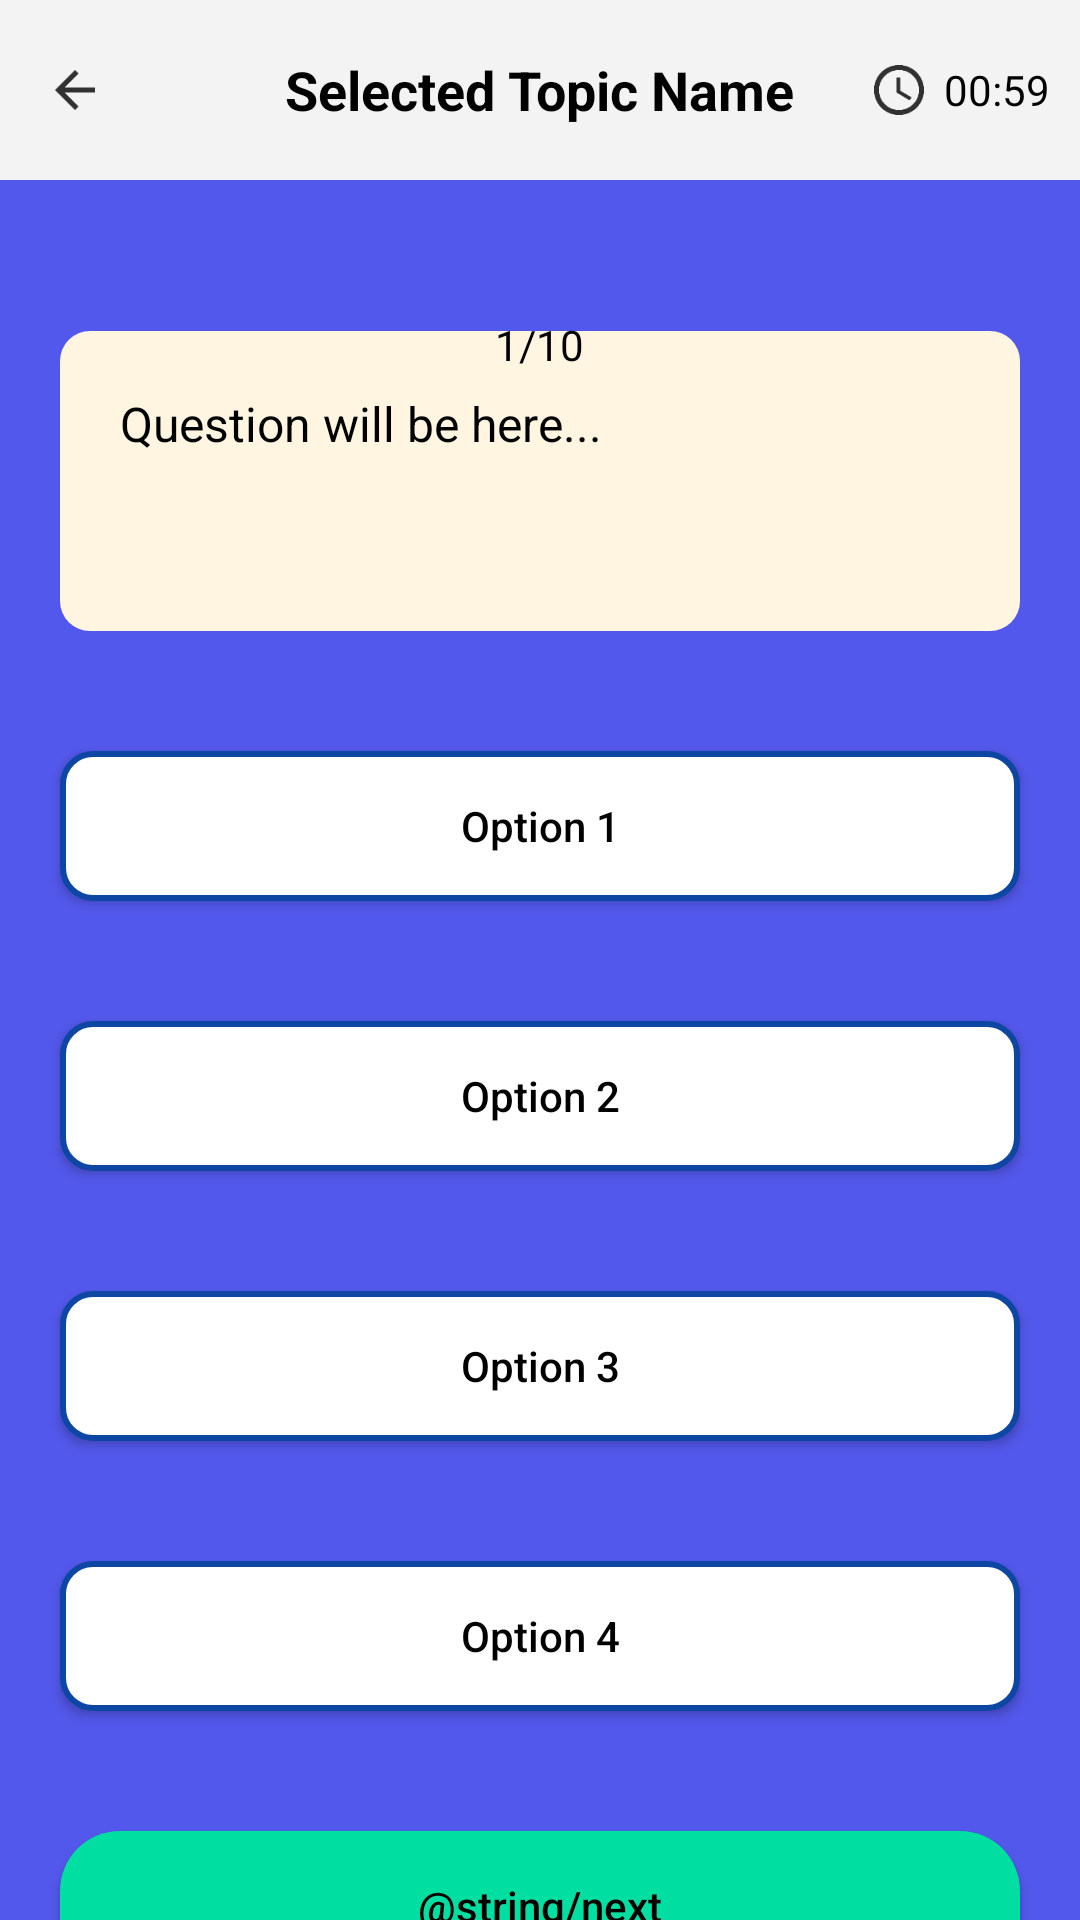

Where icons sit on this 1080 x 1920 app screen, as (x1, y1, x2, y2):
back: (55, 70, 95, 110)
timer: (874, 65, 924, 115)
